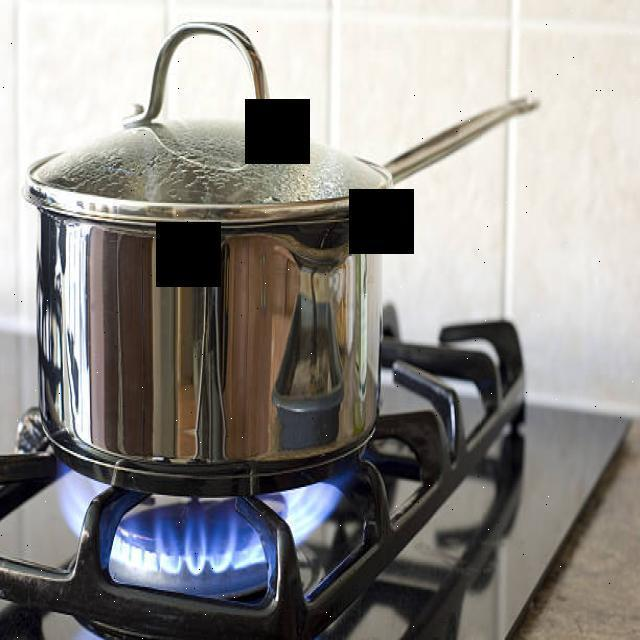Flame: (55, 483, 364, 564)
Pan: (15, 23, 551, 485)
